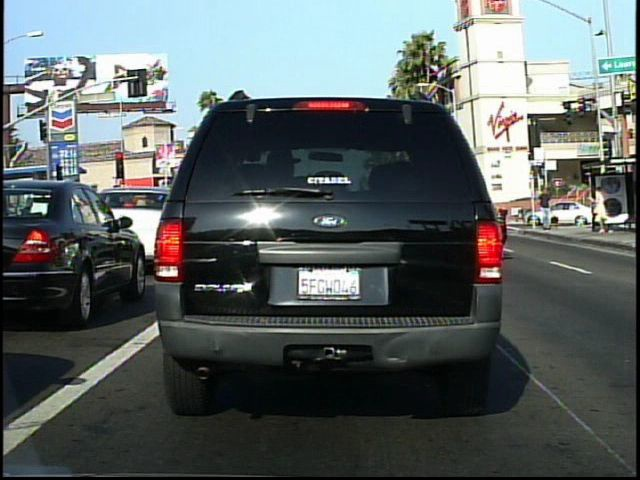person: (590, 183, 612, 234), (534, 185, 555, 233)
